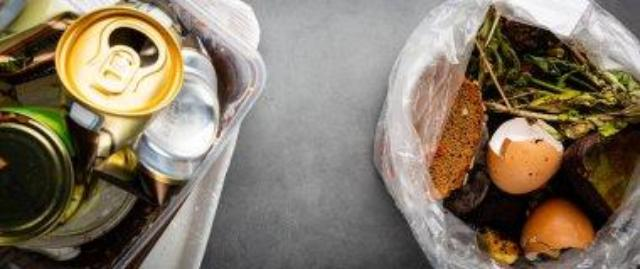Garbage: (0, 0, 261, 268), (411, 5, 640, 269)
Metal: (0, 4, 220, 259)
contaminated_waste: (53, 4, 185, 115), (132, 49, 218, 181), (0, 107, 74, 245)
